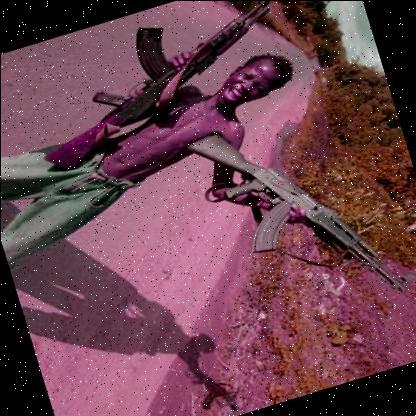rifle: (173, 89, 416, 339), (18, 0, 349, 176)
